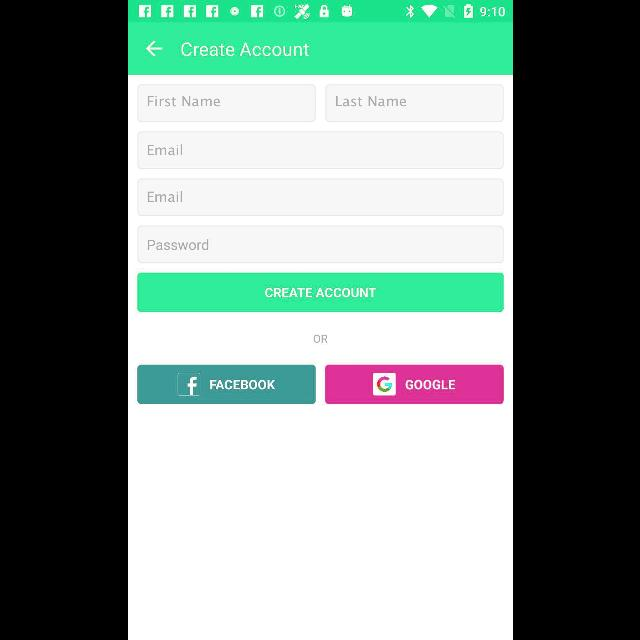icon: (144, 41, 162, 58)
input: (137, 226, 503, 264), (137, 131, 503, 169), (324, 84, 503, 122), (137, 84, 316, 122)
text: (136, 178, 504, 216), (181, 42, 309, 58), (147, 95, 219, 106), (335, 95, 405, 106), (146, 240, 208, 250), (147, 144, 181, 156), (146, 192, 182, 202), (313, 334, 327, 344)
textbutton: (136, 274, 504, 312), (324, 366, 503, 404), (137, 366, 316, 404)
toolbar: (128, 23, 512, 75)
uppertaskbar: (128, 1, 512, 23)
